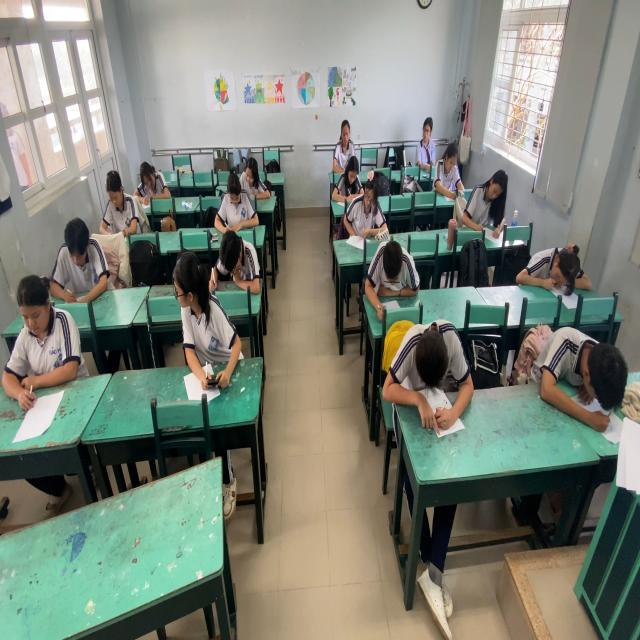cheating: (165, 247, 224, 356)
not_cheating: (6, 278, 88, 388), (384, 316, 471, 402), (545, 316, 613, 412), (43, 216, 105, 302), (462, 170, 516, 250), (518, 243, 586, 301), (216, 225, 259, 301), (368, 243, 420, 301), (90, 164, 132, 232), (348, 181, 393, 236), (132, 150, 174, 198), (430, 139, 463, 198), (216, 167, 249, 225), (331, 116, 354, 160), (416, 118, 438, 163), (242, 153, 262, 191), (344, 153, 360, 191)
